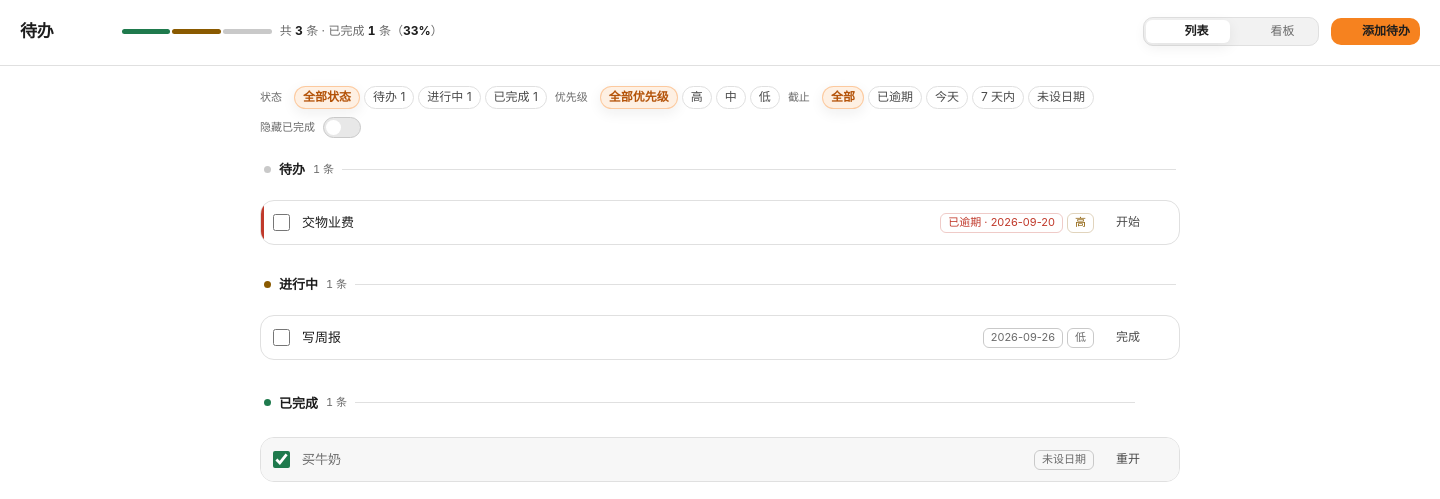
页头与筛选条（v0.5.2 按定稿 2026-09-27 调整） › 看板下收起状态筛选与「隐藏已完成」（列头已承载状态与计数）
Click the button "看板": (1274, 31) left=1232, top=20, right=1316, bottom=42
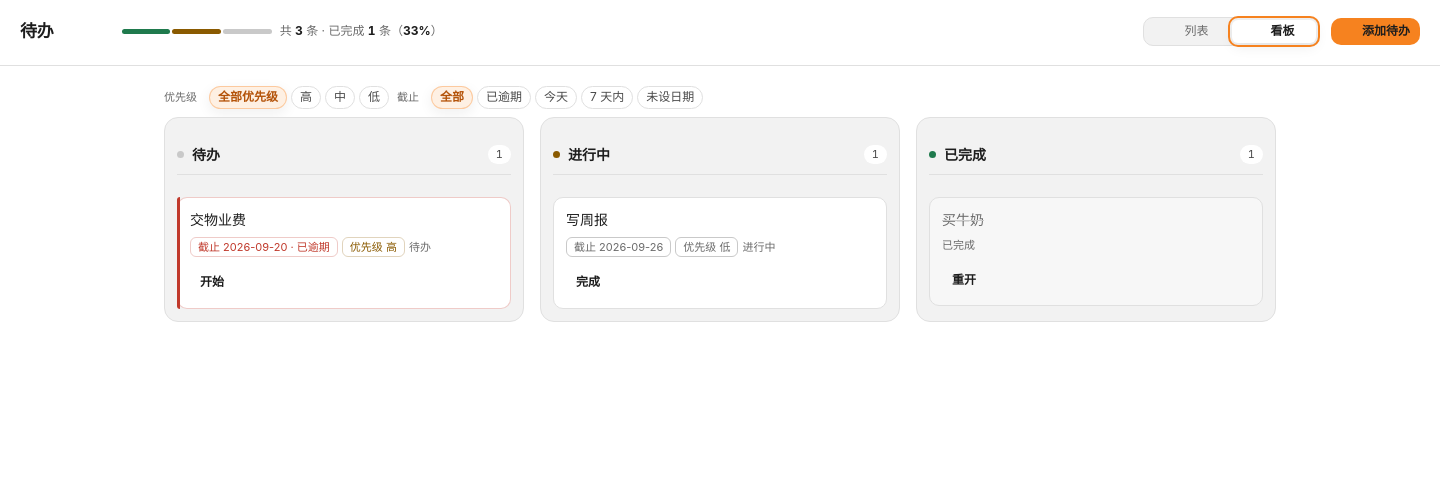
Check: the text "隐藏已完成" is gone
Check: the number of elements with class "kanban__col" is 3, box left=164, top=117, right=524, bottom=322; left=540, top=117, right=900, bottom=322; left=916, top=117, right=1276, bottom=322
